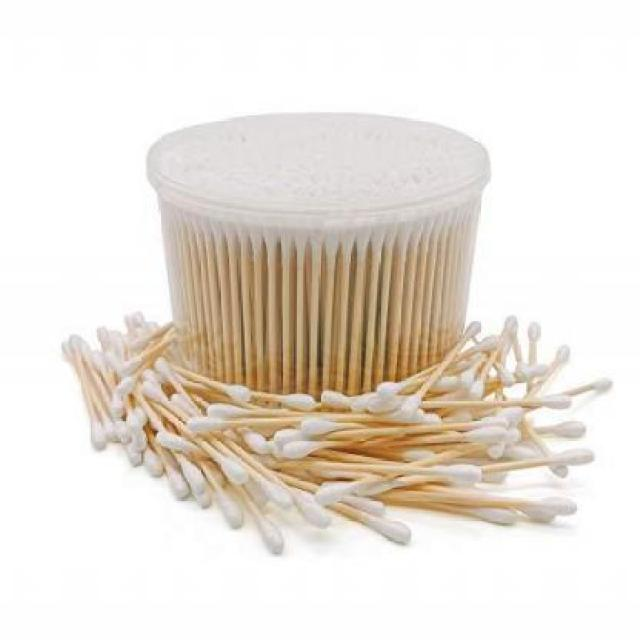B3: (62, 79, 621, 578)
